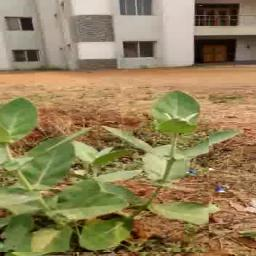Calotropis: (0, 86, 210, 253)
